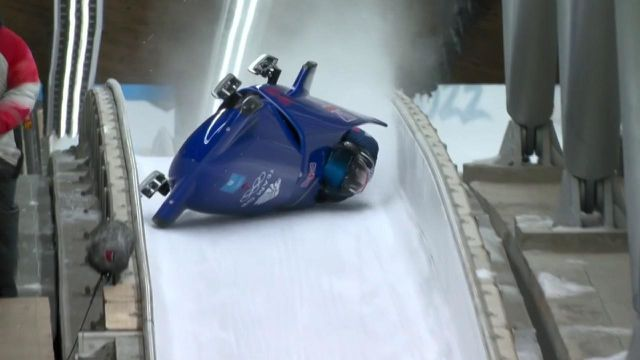Bobsleigh: (140, 54, 386, 226)
